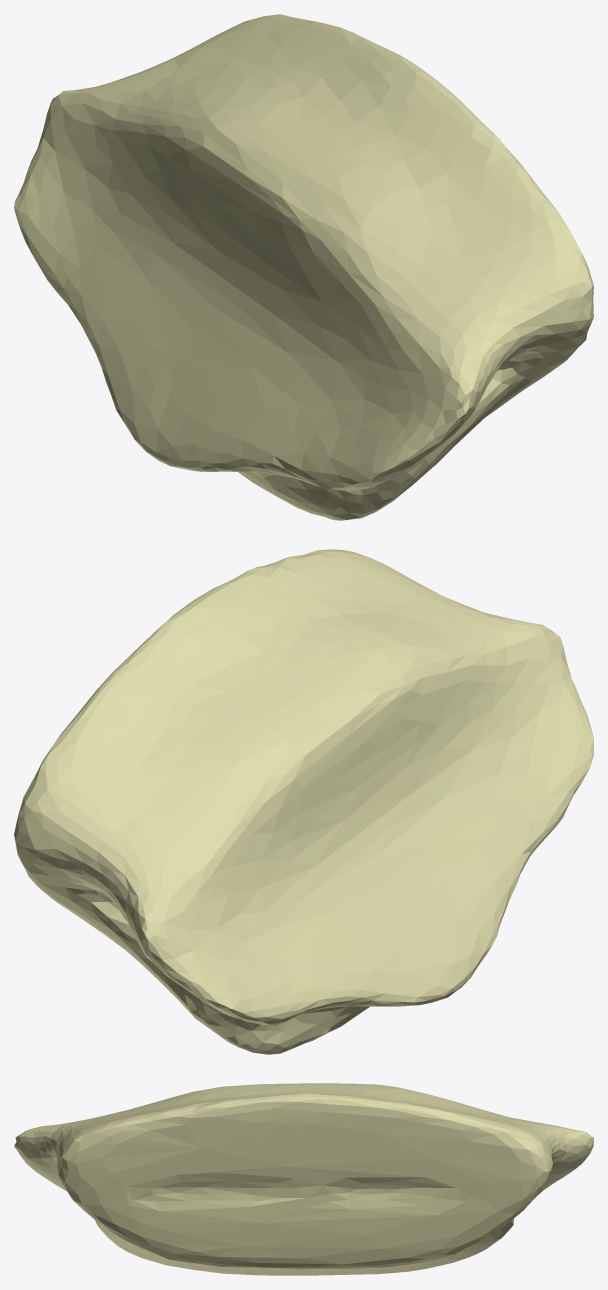
3 renders of one model, top to bottom at view 1: azimuth 30°, elevation 25°; view 2: azimuth 150°, elevation 25°; view 3: azimuth 270°, elevation 25°, orthographic. The views are drawn at different scales.
Visible parts, largest first — view 1: 957.obj; view 2: 957.obj; view 3: 957.obj.
Part boxes in pixels (<box>): 957.obj: <box>14,14,593,520</box>; 957.obj: <box>14,549,593,1054</box>; 957.obj: <box>14,1083,593,1275</box>.
Bounding box in the file's own units: 1291 × 1511 × 3260.
